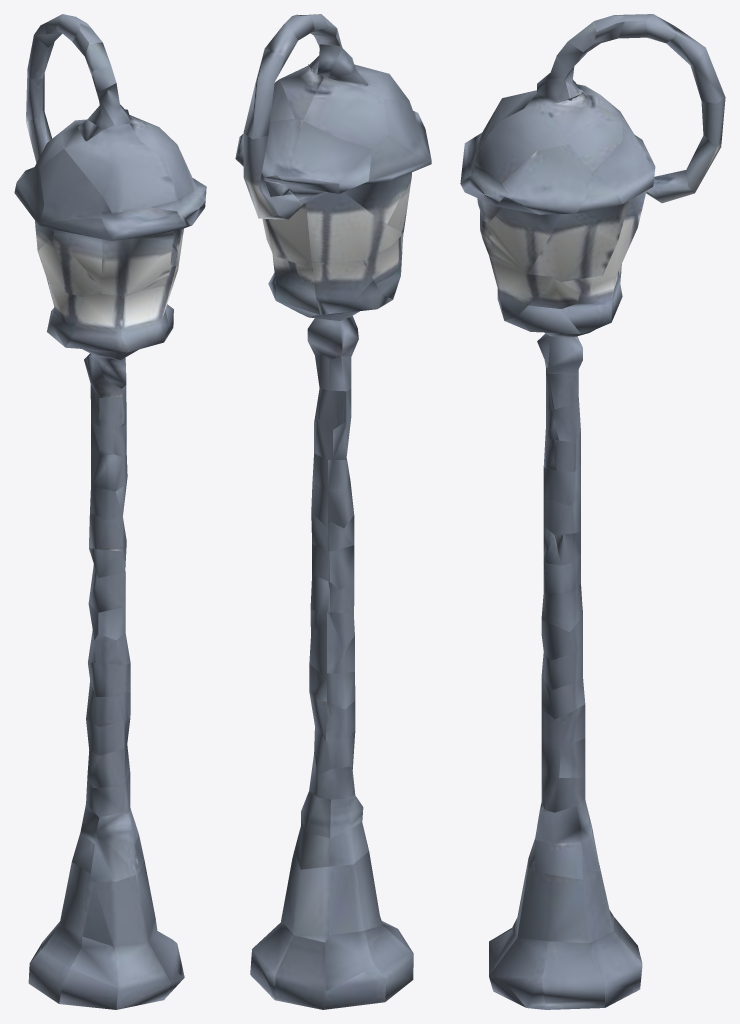
File: lamp.glb
3 renders of one model, left to right at view 1: azimuth 30°, elevation 25°; view 2: azimuth 150°, elevation 25°; view 3: azimuth 270°, elevation 25°, orthographic. The views are drawn at different scales.
Bounding box in the file's own units: 0.3483 × 1.9 × 0.4735.
1 material, 1 textured.
